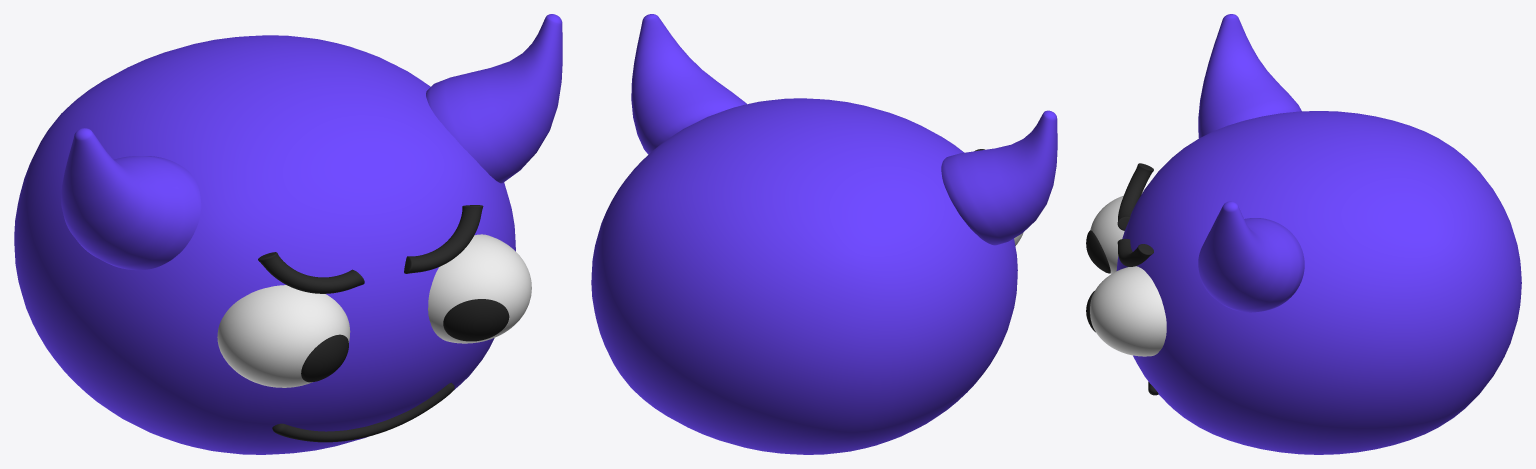
File: devil-face-emoji-animated-3d-icon-922835469778.glb
The picture shows the model from 3 angles, left to right: view 1: azimuth 30°, elevation 25°; view 2: azimuth 150°, elevation 25°; view 3: azimuth 270°, elevation 25°; orthographic projection. The views are drawn at different scales.
Parts seen in each view (by area): view 1: Cube.056, Cylinder, Sphere.062, Sphere.064, Circle.040, Sphere.065, Circle.041, Sphere.063; view 2: Cube.056, Cylinder; view 3: Cube.056, Cylinder, Sphere.064, Circle.040, Sphere.062, Sphere.063.
Boxes of the visible parts, x1,y1,x2,y2 form: Cube.056: [14, 35, 515, 454]; Cylinder: [61, 14, 562, 270]; Sphere.062: [217, 285, 350, 387]; Sphere.064: [428, 234, 531, 343]; Circle.040: [258, 205, 483, 293]; Sphere.065: [443, 299, 509, 341]; Circle.041: [272, 382, 454, 442]; Sphere.063: [301, 334, 348, 382]; Cube.056: [591, 98, 1017, 454]; Cylinder: [631, 14, 1057, 245]; Cube.056: [1116, 111, 1521, 454]; Cylinder: [1198, 14, 1304, 312]; Sphere.064: [1090, 266, 1166, 356]; Circle.040: [1117, 163, 1153, 266]; Sphere.062: [1090, 192, 1142, 274]; Sphere.063: [1086, 230, 1110, 273].
Bounding box in the file's own units: 1.84 × 1.4 × 1.72.
